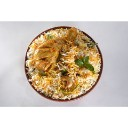briyani: (31, 33, 97, 95)
